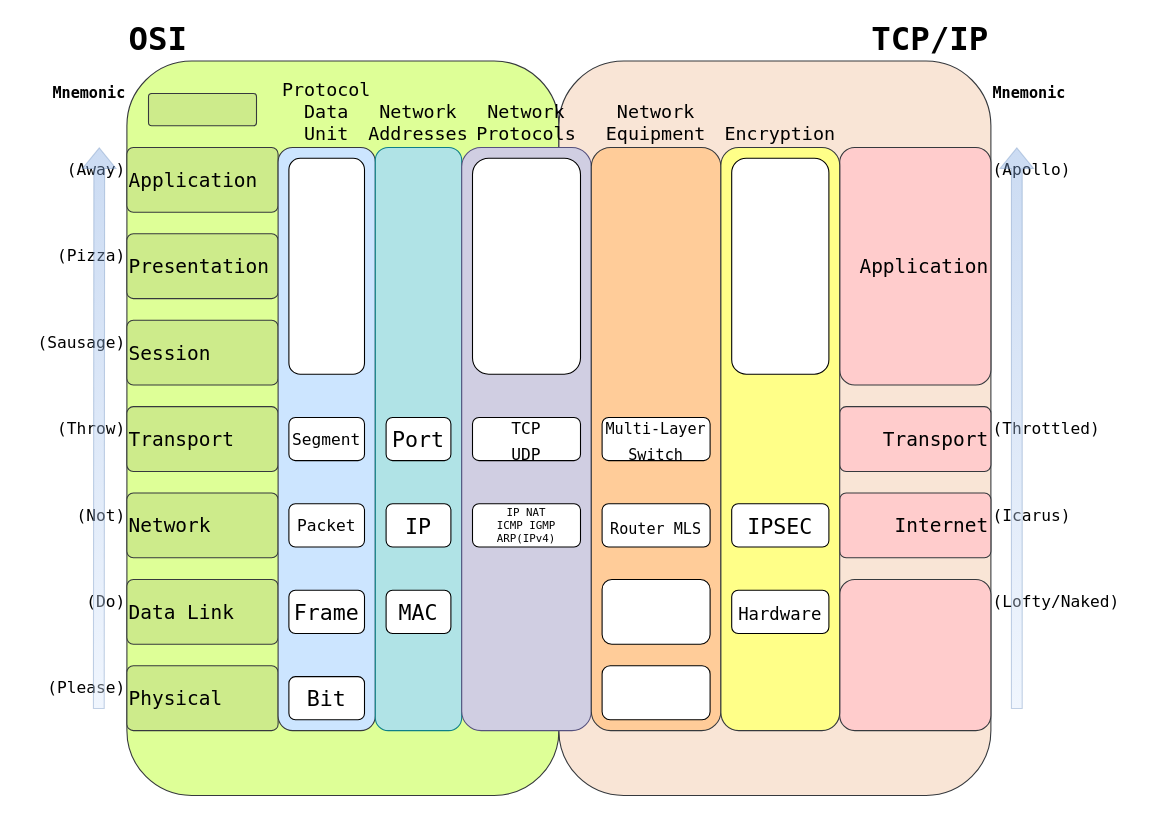
Some shapes in this 1149 by 814 pixel diagram are drawn without their labels. The shapes that lost their labels are listed below. From the top down, each one's centre as x and y in pixels, then its label:
At [201,109]: "(User)".
At [326,265]: "Data".
At [525,265]: "HTTP(S) SSH SFTP POP3 IMAP DHCP DNS ...".
At [780,265]: "SSL TLS".
At [655,611]: "Bridge Switch NIC".
At [915,654]: "Link/ Network Access".
At [655,692]: "Repeater Hub NIC".
